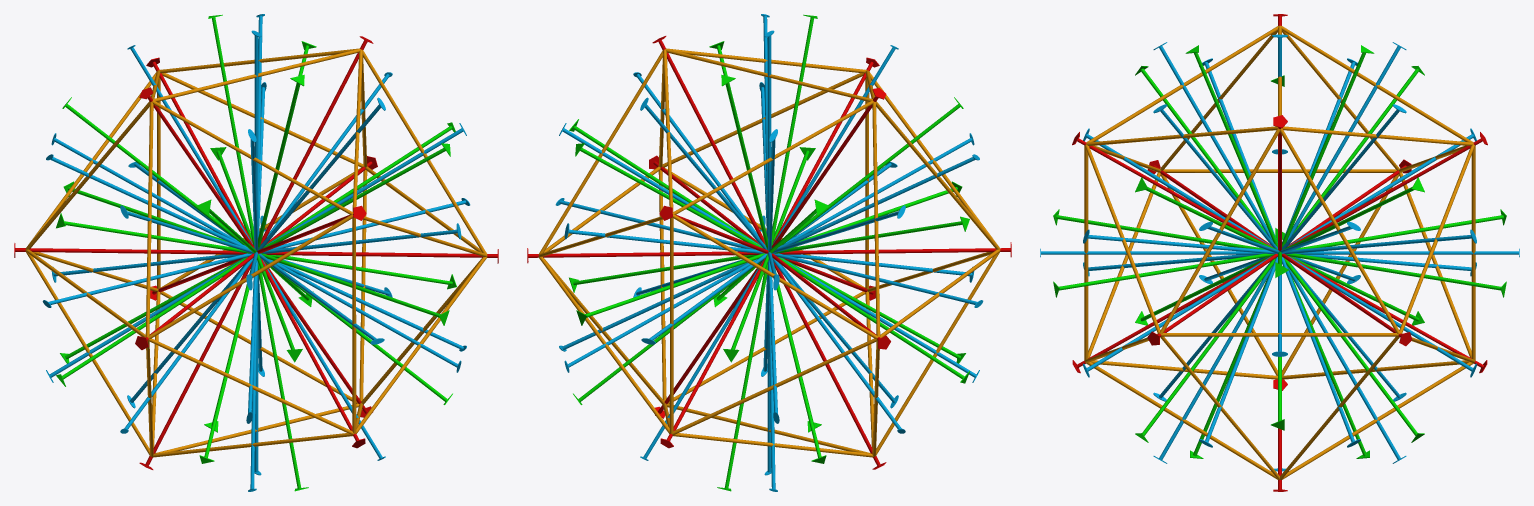
The model's file is 1SVA.glb.
3 views of the same model, side by side, from view 1: azimuth 30°, elevation 25°; view 2: azimuth 150°, elevation 25°; view 3: azimuth 270°, elevation 25° (orthographic).
Size of the model in its own units: 592 by 592 by 592.
